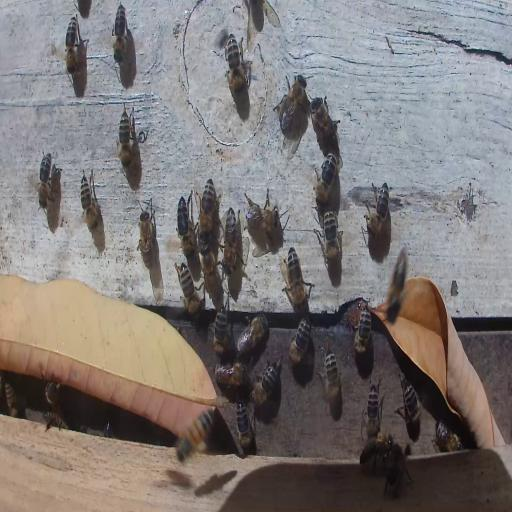nonpollenbee: (275, 70, 307, 132), (175, 262, 202, 322), (318, 345, 342, 412), (284, 247, 309, 311), (79, 168, 102, 237), (316, 206, 342, 266), (224, 32, 249, 94), (311, 96, 338, 152), (245, 189, 278, 233), (236, 314, 270, 356), (200, 242, 223, 303), (314, 152, 340, 205), (366, 181, 391, 236), (398, 378, 423, 432), (360, 433, 394, 471), (233, 398, 255, 456), (137, 204, 157, 267), (352, 303, 373, 361), (176, 196, 194, 260), (289, 317, 311, 367), (252, 366, 280, 404), (199, 179, 215, 238), (224, 207, 238, 274), (214, 362, 248, 388), (118, 108, 132, 170), (365, 382, 381, 436), (211, 304, 228, 354), (434, 423, 462, 453), (388, 442, 406, 488), (38, 150, 52, 209), (113, 3, 127, 62), (65, 16, 78, 76), (42, 410, 67, 430), (5, 381, 19, 414), (45, 380, 60, 408)
pollenbee: (175, 406, 214, 463), (386, 239, 411, 325)
